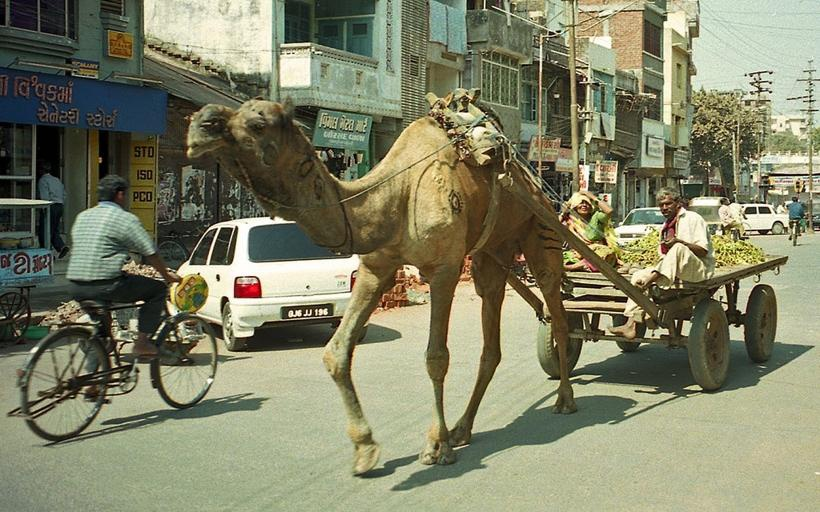non-vehicle: (4, 262, 219, 442), (154, 217, 236, 269), (0, 283, 35, 346), (729, 221, 752, 243), (791, 219, 799, 246)
